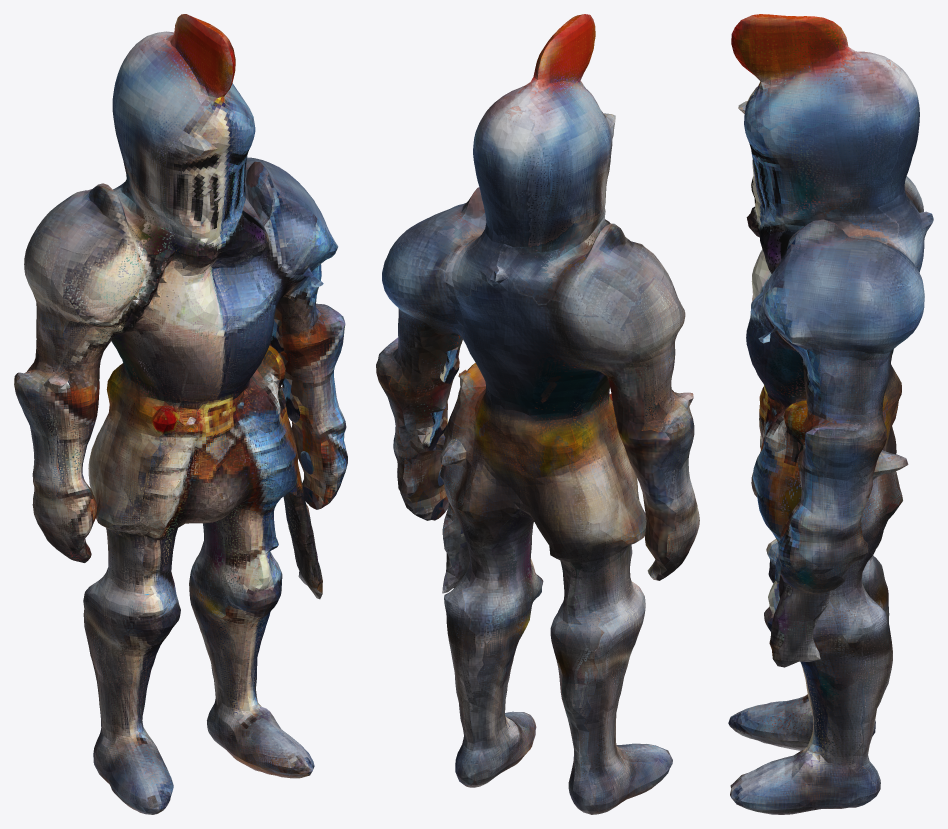
Rendered from enemy2.glb.
3 views of the same model, side by side, from view 1: azimuth 30°, elevation 25°; view 2: azimuth 150°, elevation 25°; view 3: azimuth 270°, elevation 25° (orthographic).
Parts seen in each view (by area): view 1: Mesh_0; view 2: Mesh_0; view 3: Mesh_0.
Part boxes in pixels (<box>): Mesh_0: <box>14,14,347,814</box>; Mesh_0: <box>376,14,699,814</box>; Mesh_0: <box>728,14,933,814</box>.
Bounding box in the file's own units: 0.5789 × 1.35 × 0.3299.
1 material, 1 textured.
